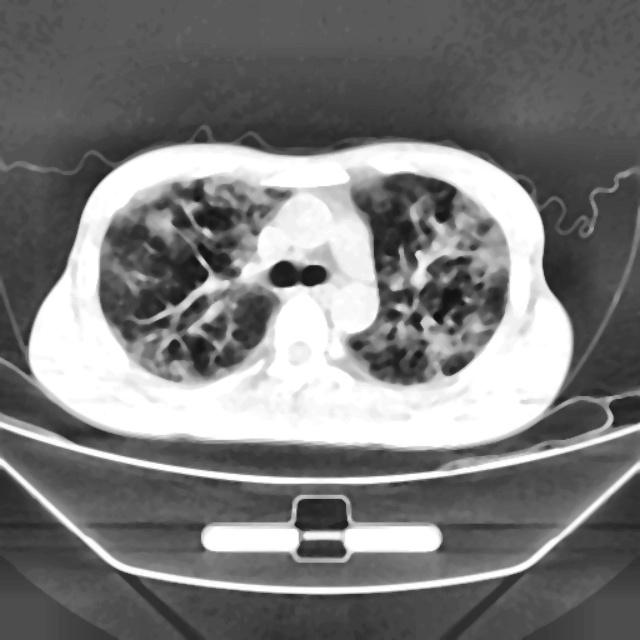covid: (26, 134, 574, 449)
